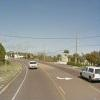Car: (79, 61, 99, 83)
